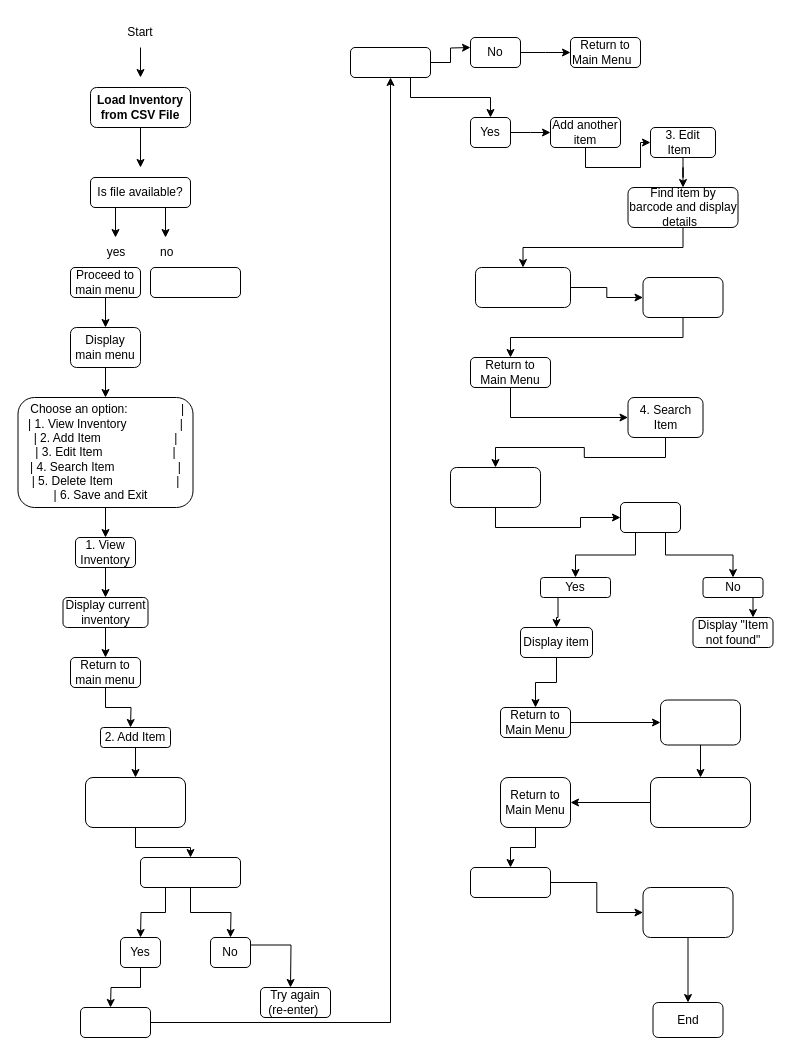
This 790x1055 diagram has some shape labels left out. The shapes that lost their labels are listed below. From the top down, each one's box as (x1, y1, x2, y2) in pixels, then its label:
(350, 46, 430, 78): Add another item?
(150, 266, 240, 298): Start with empty inventory
(474, 266, 570, 308): Edit item details (barcode, description)
(642, 276, 723, 318): Apply changes and save
(450, 466, 540, 508): Search for item by barcode
(620, 502, 680, 532): Is item found?
(660, 699, 740, 745): 5. Delete Item
(84, 776, 186, 828): Collect item details (barcode, etc.)
(650, 776, 750, 828): Find item by barcode and remove it
(140, 856, 240, 888): Is barcode valid and unique?
(470, 866, 550, 898): 6. Save and Exit
(642, 886, 733, 938): Save inventory to CSV and Exit
(80, 1006, 150, 1038): Add item to inventory
